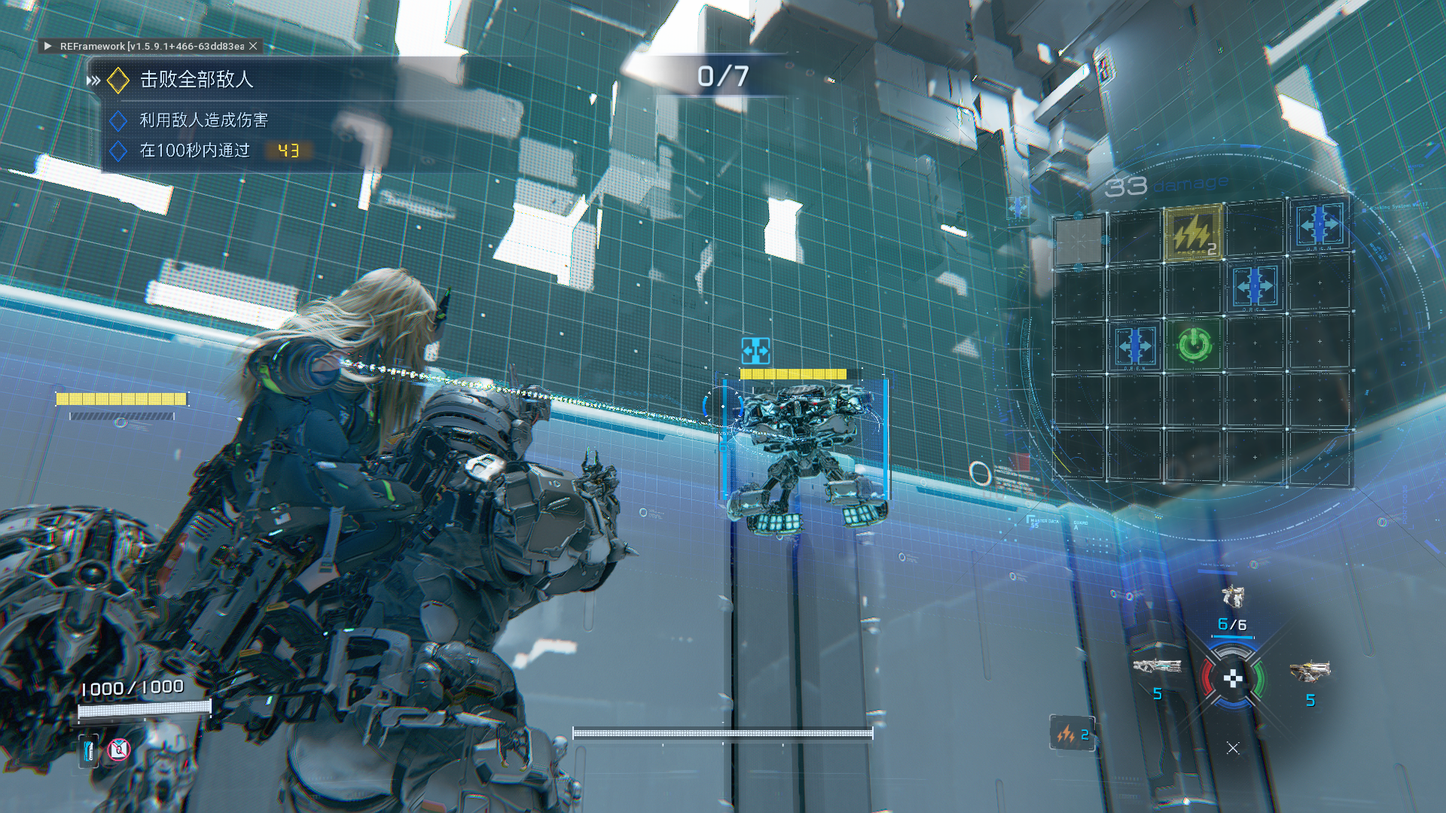puzzle_panel: (1048, 192, 1353, 484)
